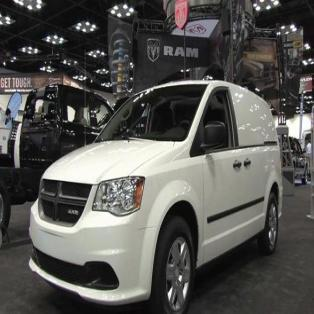Auto: (16, 78, 282, 310)
